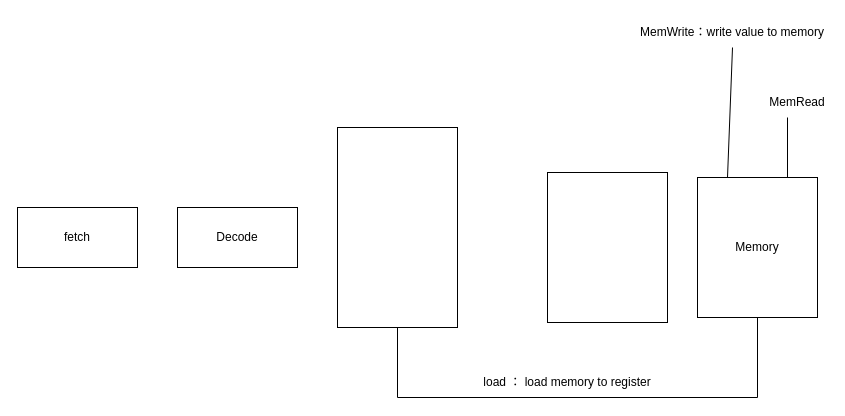
This 845x416 diagram has some shape labels left out. Each missing label, with the centre of its shape:
"ALU" belongs at point 607,247.
"Register File" belongs at point 397,227.
